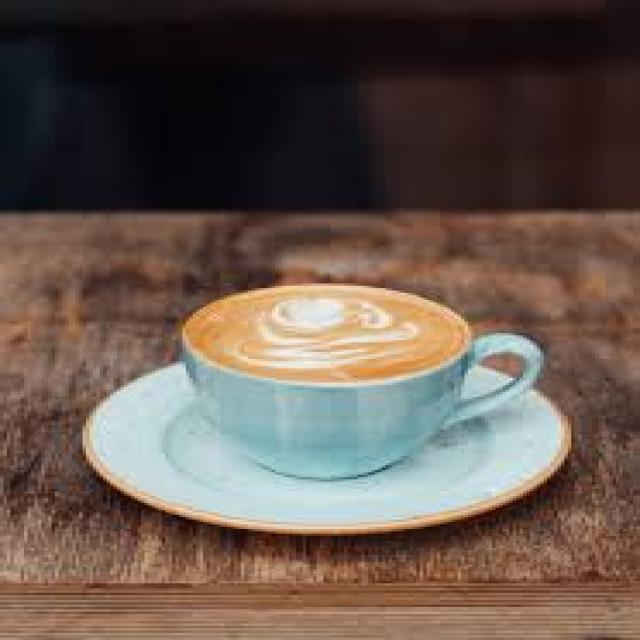taza: (168, 276, 553, 487)
